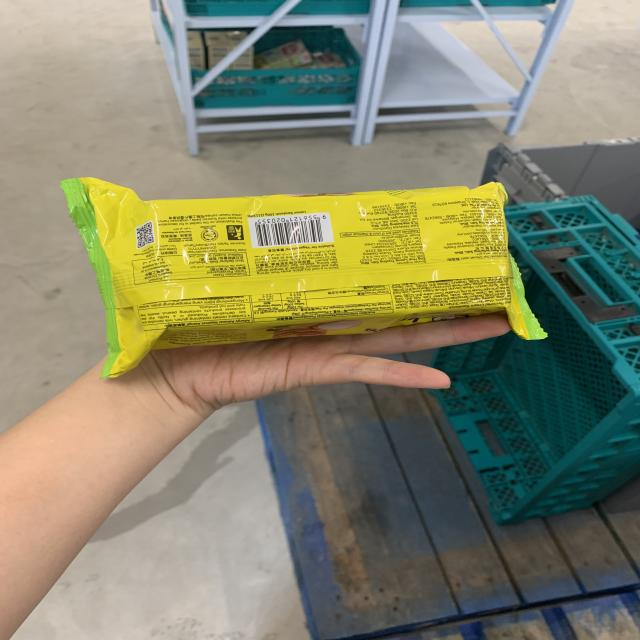object_name: (102, 191, 517, 329)
